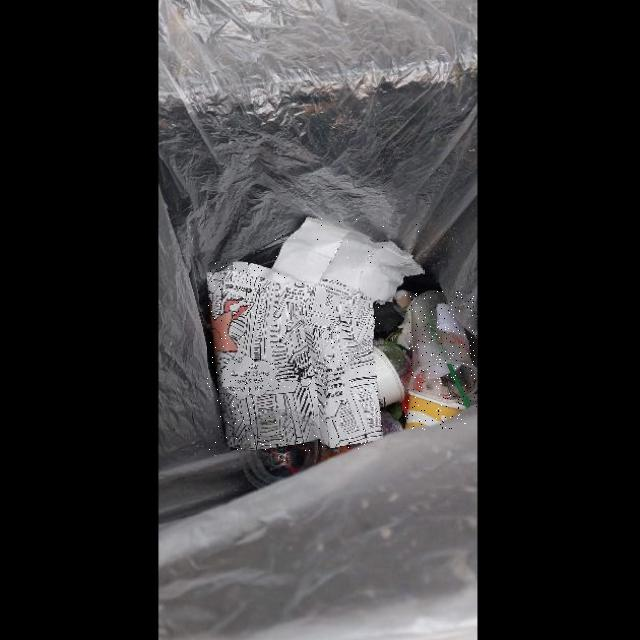paper: (208, 262, 382, 451), (273, 218, 424, 305), (405, 391, 466, 430)
plastic: (410, 292, 477, 408)
